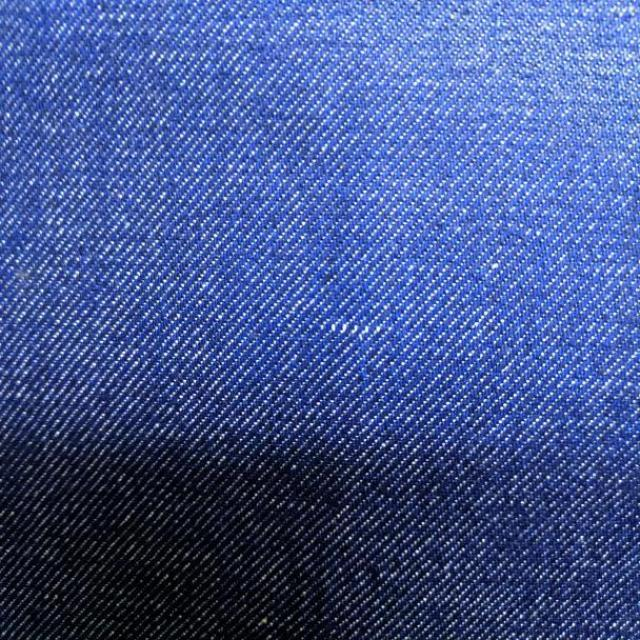Knot: (321, 320, 384, 341)
